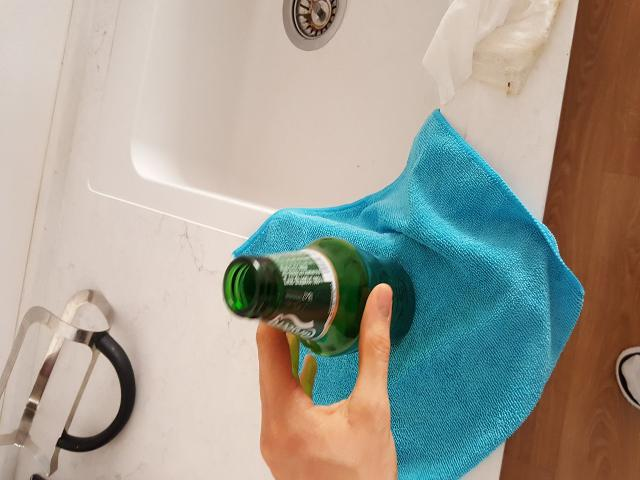beer: (226, 239, 417, 347)
